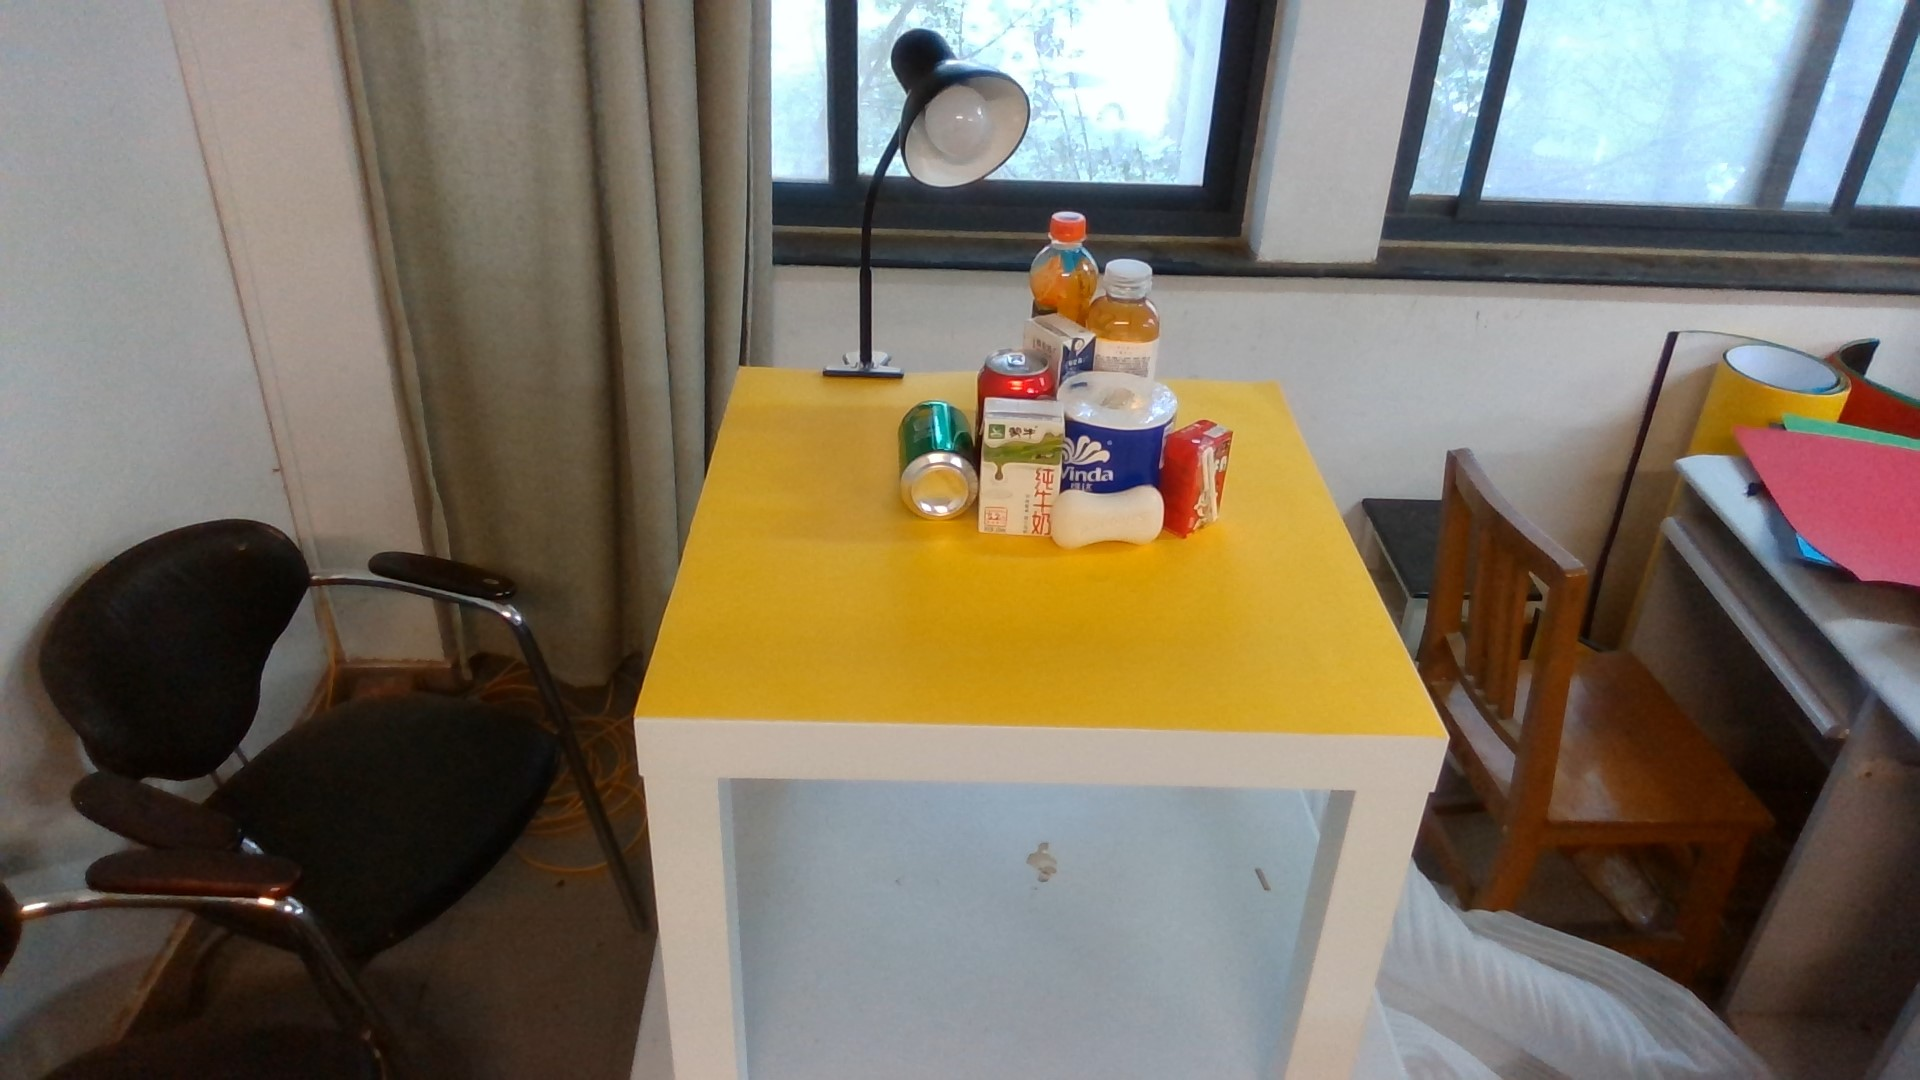BB003: (1052, 483, 1166, 549)
BB009: (982, 392, 1058, 538)
BB010: (1029, 313, 1095, 348)
BB012: (1170, 417, 1237, 541)
CA002: (1062, 375, 1172, 485)
ZC001: (901, 404, 977, 520)
ZC002: (982, 345, 1062, 400)
ZC006: (1029, 208, 1095, 313)
ZC012: (1098, 258, 1159, 373)
